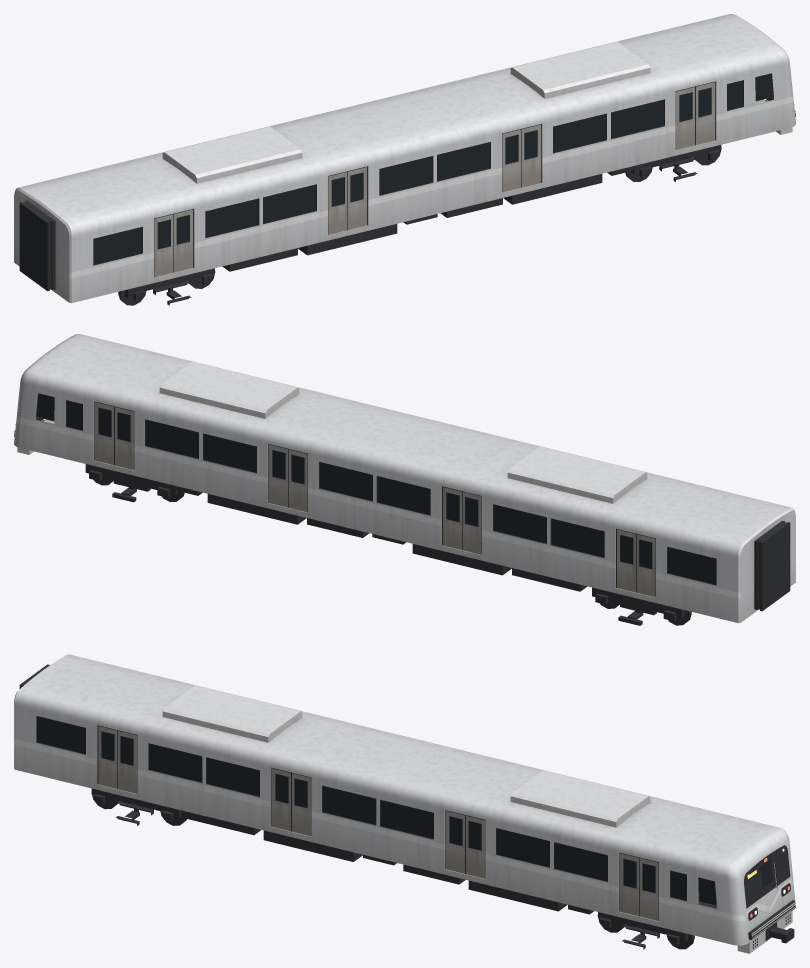
Rendered from hc_cab_near.glb.
3 renders of one model, top to bottom at view 1: azimuth 30°, elevation 25°; view 2: azimuth 150°, elevation 25°; view 3: azimuth 330°, elevation 25°, orthographic.
Parts seen in each view (by area): view 1: body, glass, dark, band; view 2: body, glass, dark, band; view 3: body, glass, dark, band.
Boxes of the visible parts, bbox=[...] form: body: bbox=[14, 14, 795, 303]; glass: bbox=[93, 73, 773, 264]; dark: bbox=[19, 73, 795, 305]; band: bbox=[69, 96, 793, 278]; body: bbox=[14, 334, 795, 623]; glass: bbox=[36, 393, 716, 584]; dark: bbox=[14, 393, 790, 625]; band: bbox=[16, 416, 740, 598]; body: bbox=[14, 654, 795, 953]; glass: bbox=[37, 716, 773, 905]; dark: bbox=[19, 664, 795, 949]; band: bbox=[14, 739, 793, 921].
Bounding box in the file's own units: 24.36 × 3.59 × 3.18.
10 materials, 2 textured.
